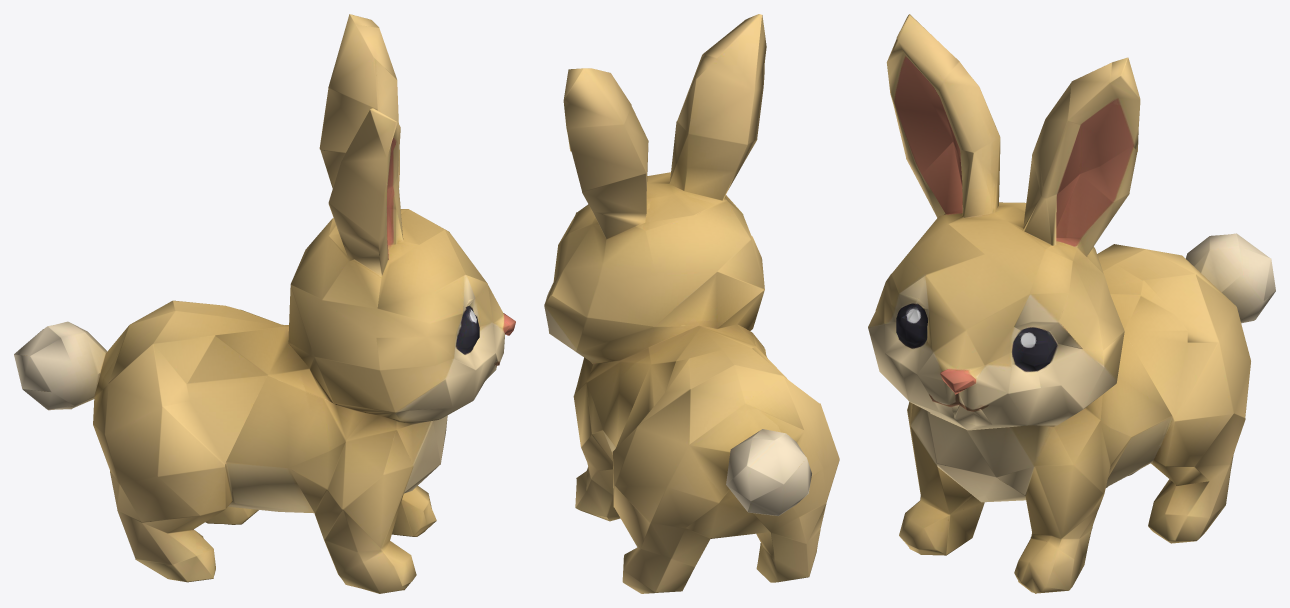
The model's file is kroliczek_model.glb.
The picture shows the model from 3 angles, left to right: view 1: azimuth 30°, elevation 25°; view 2: azimuth 150°, elevation 25°; view 3: azimuth 270°, elevation 25°; orthographic projection. The views are drawn at different scales.
Visible parts, largest first — view 1: tripo_node_6c3f839a-64aa-4597-95a3-764d2cc0e6bd; view 2: tripo_node_6c3f839a-64aa-4597-95a3-764d2cc0e6bd; view 3: tripo_node_6c3f839a-64aa-4597-95a3-764d2cc0e6bd.
Boxes of the visible parts, x1=… form: tripo_node_6c3f839a-64aa-4597-95a3-764d2cc0e6bd: x1=14, y1=14, x2=515, y2=593; tripo_node_6c3f839a-64aa-4597-95a3-764d2cc0e6bd: x1=544, y1=14, x2=839, y2=593; tripo_node_6c3f839a-64aa-4597-95a3-764d2cc0e6bd: x1=868, y1=14, x2=1275, y2=593.
Bounding box in the file's own units: 0.7666 × 1 × 0.7024.
1 material, 1 textured.
